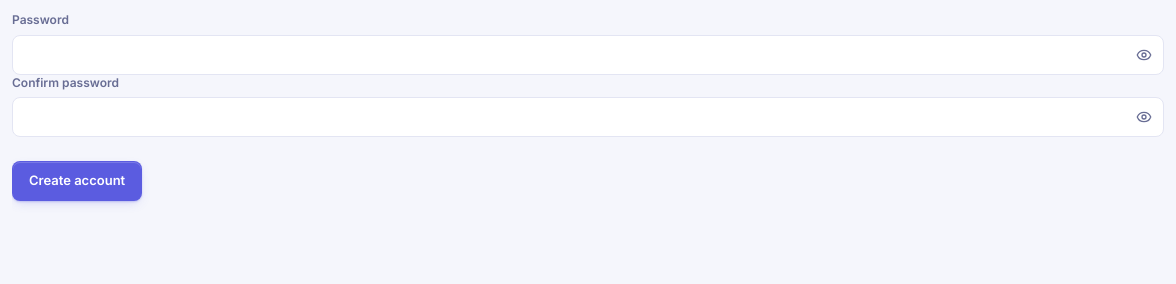
it: NewPasswordFields › says the passwords do not match and does not submit
The width and height of the screenshot is (1176, 284).
Type "Vento-Test-2026!" into the password field labelled "Password" at (588, 54), box [12,34,1164,74]
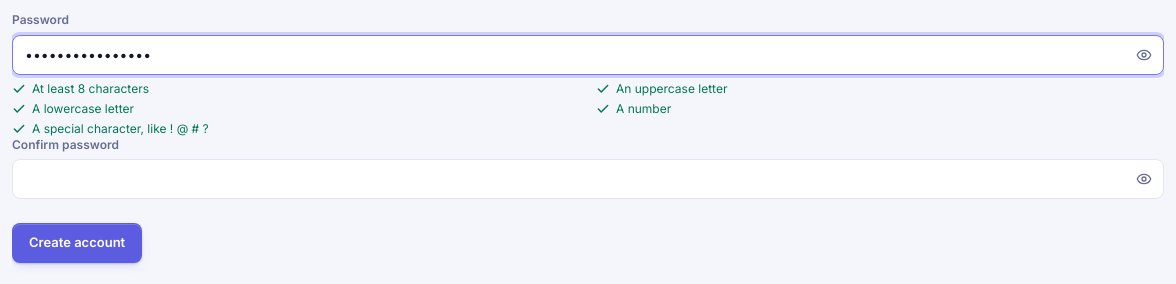
Type "Vento-Test-2027!" into the password field labelled "Confirm password" at (588, 179), box [12,159,1164,199]
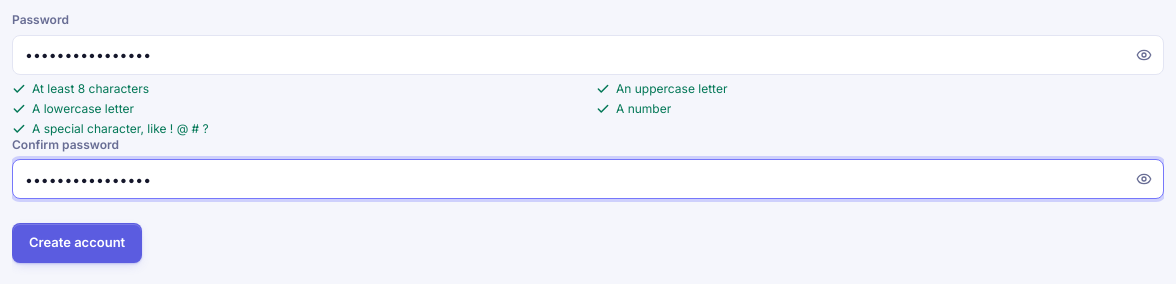
Click the button "Create account" at (77, 243), box [12,223,142,263]
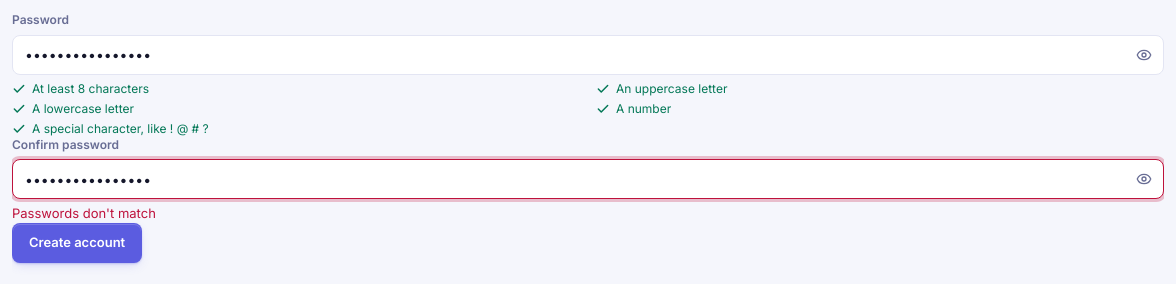
Expected: the text "Passwords don't match" is shown, [12,205,156,221]
